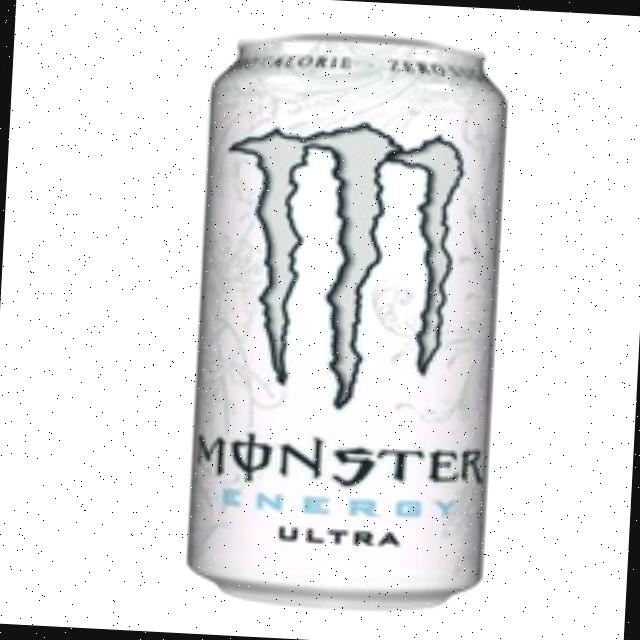Metal: (181, 25, 514, 618)
